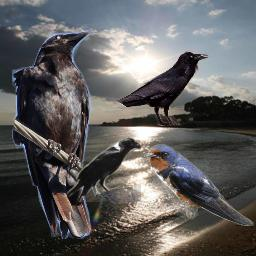Crow: (12, 29, 92, 239), (115, 49, 209, 126), (63, 135, 141, 202)
Swallow: (146, 144, 254, 226)
